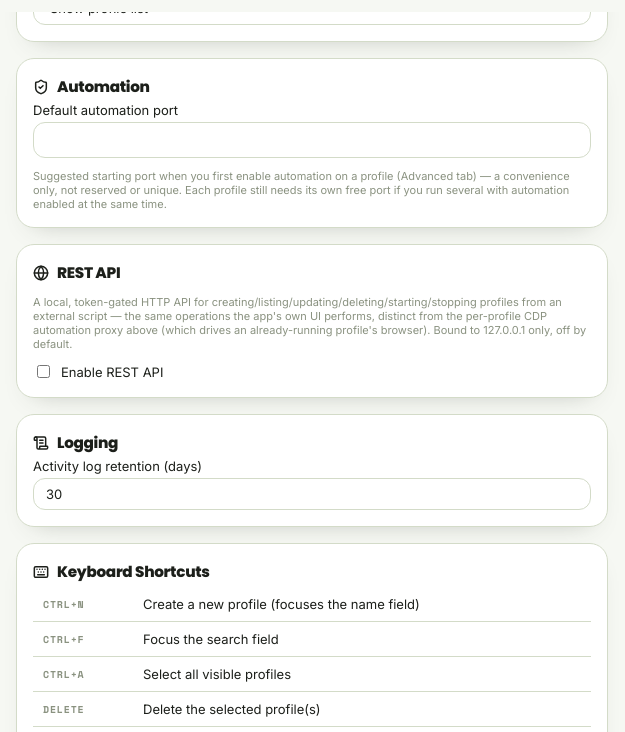
Scenario: SettingsPage › enabling the REST API checkbox saves the setting and reveals port/token fields with the real token
(page scrolled)
Click the checkbox labelled "Enable REST API" at (44, 372), box [37, 365, 50, 378]
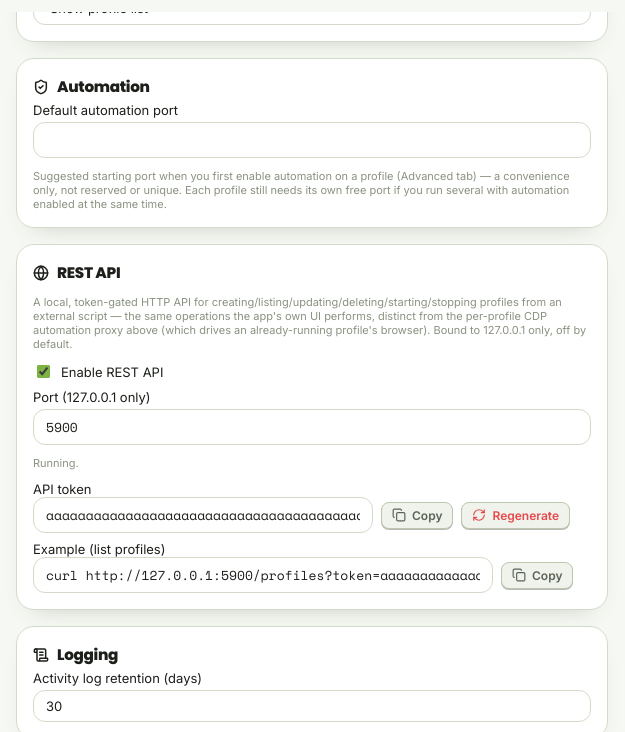
Result: the text "Running." is shown at [33, 456, 79, 470]
